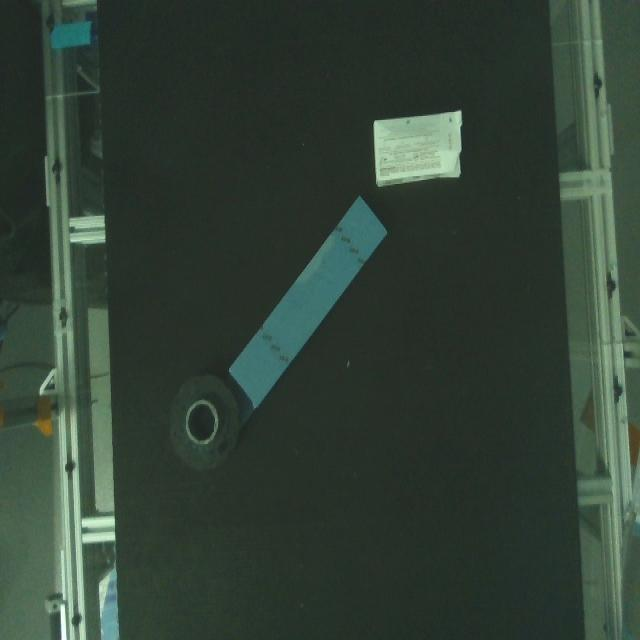non-paper: (163, 362, 247, 484)
paper: (224, 193, 395, 413), (361, 105, 482, 196)
